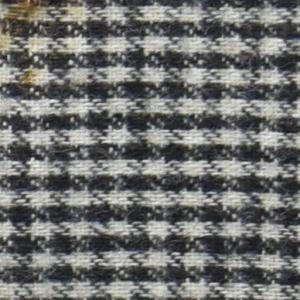Damage: (1, 1, 46, 48)
Oil Stain: (1, 1, 93, 92)
